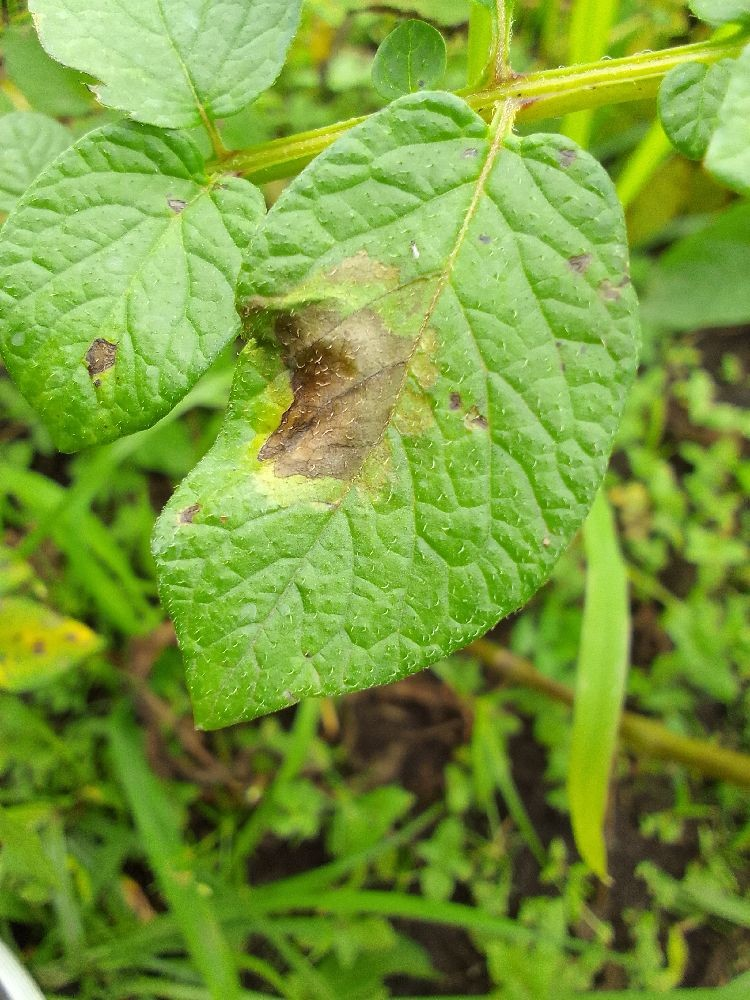late_blight: (285, 607, 590, 914), (530, 657, 750, 1000), (62, 588, 321, 874), (217, 277, 442, 502)
